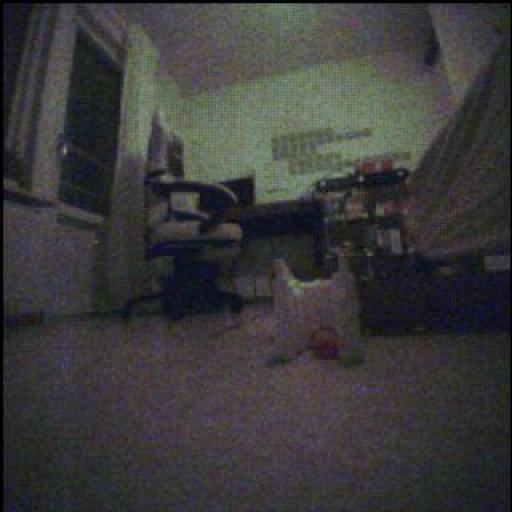basket: (308, 324, 344, 359)
